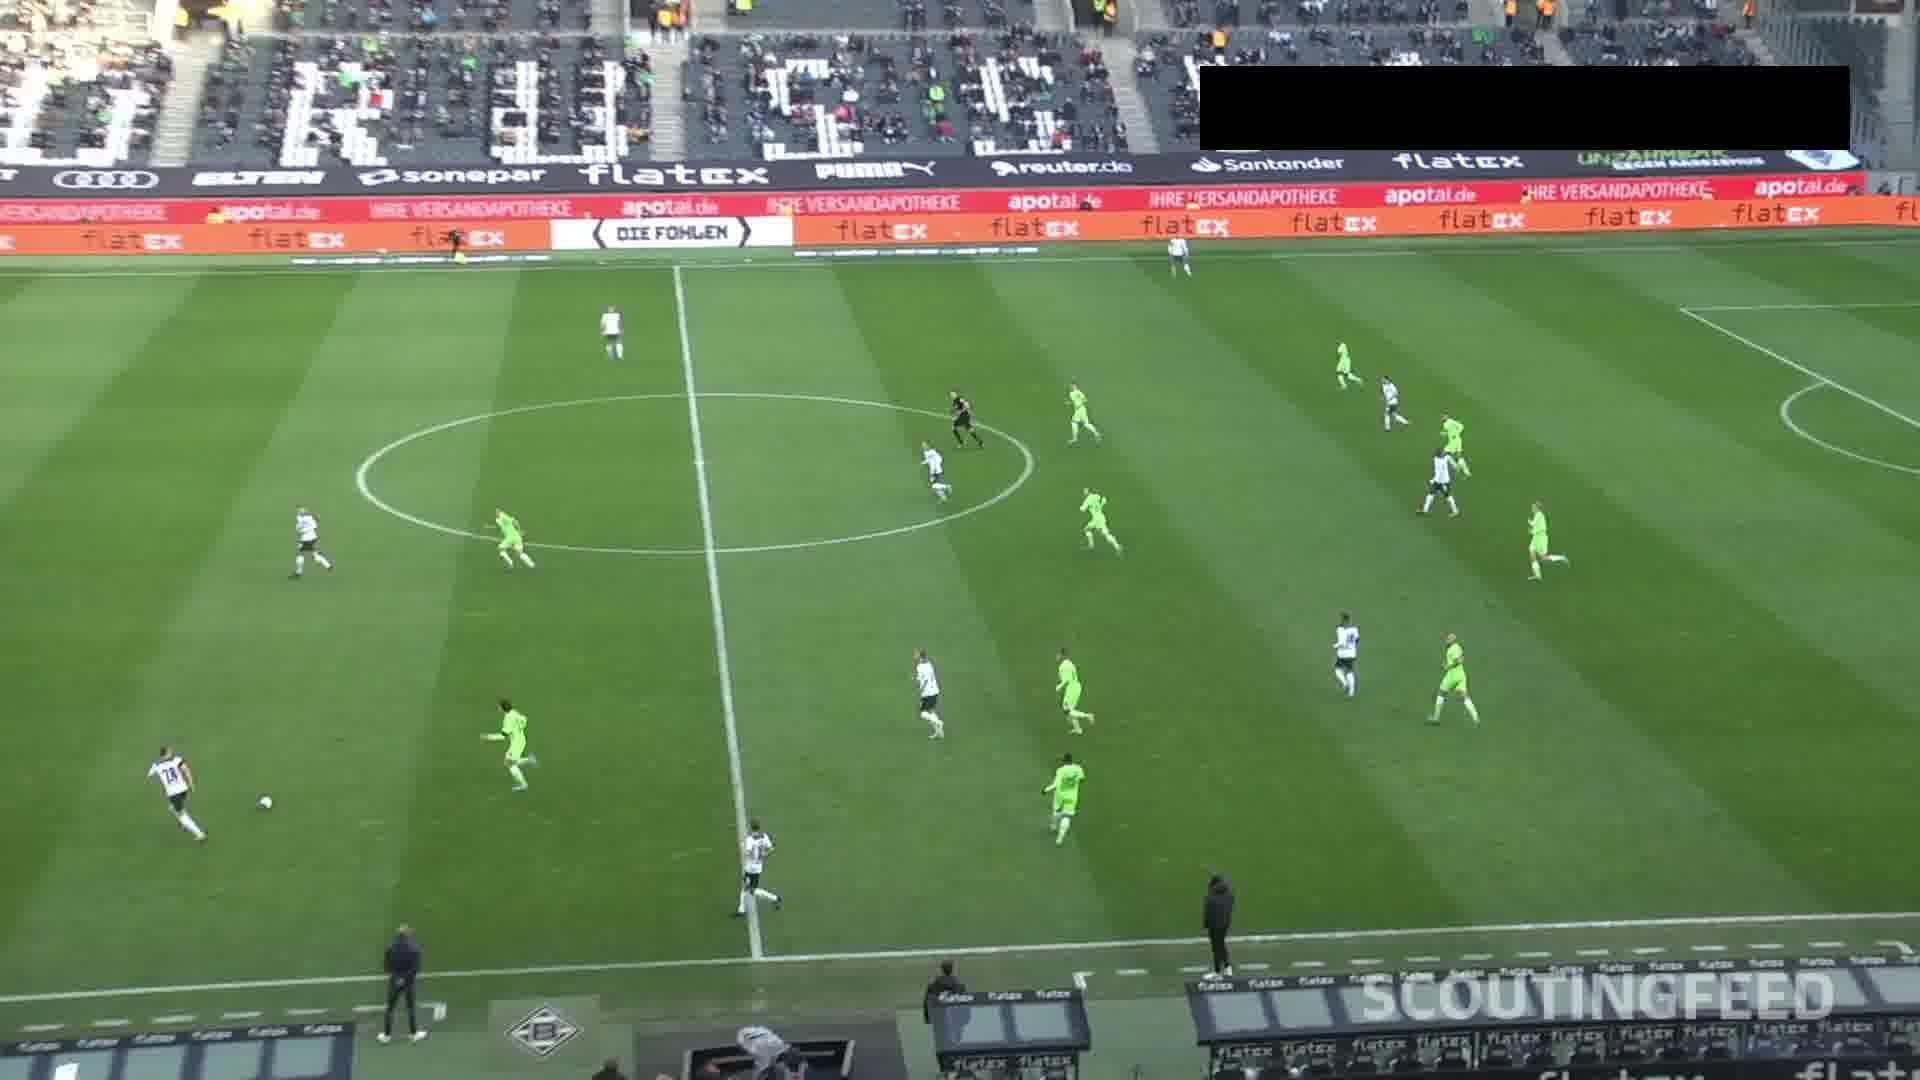football: (255, 791, 274, 812)
